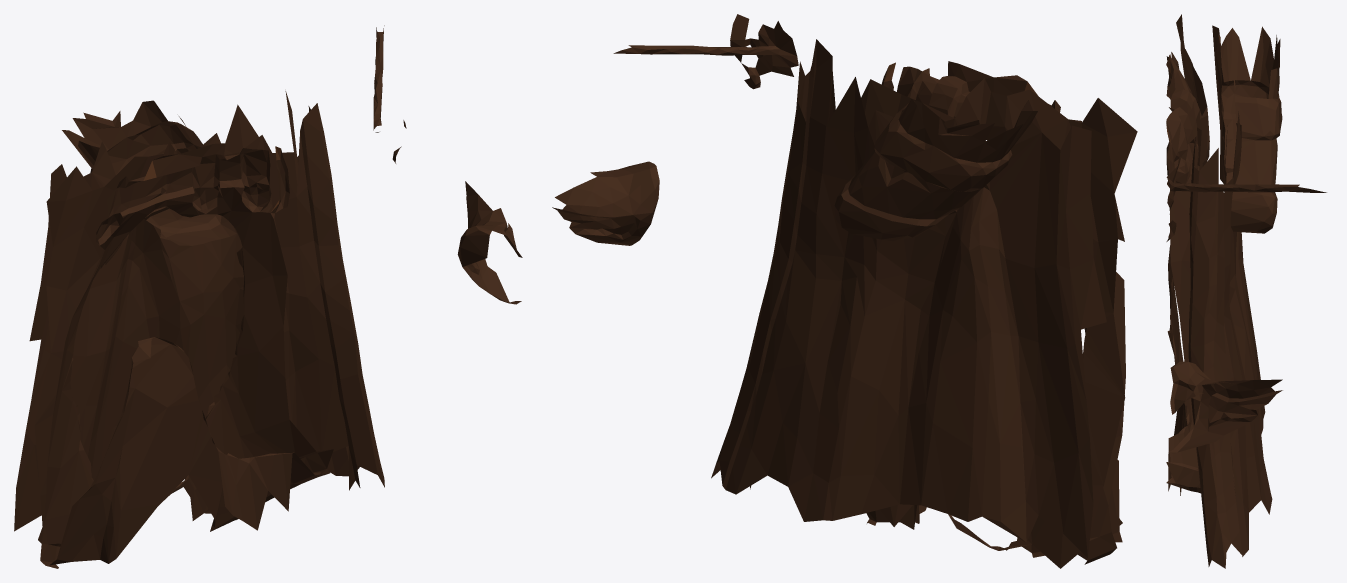
The model's file is bow.obj.
3 renders of one model, left to right at view 1: azimuth 30°, elevation 25°; view 2: azimuth 150°, elevation 25°; view 3: azimuth 270°, elevation 25°, orthographic. The views are drawn at different scales.
Parts seen in each view (by area): view 1: Bow; view 2: Bow; view 3: Bow.
Part boxes in pixels (box(x1,y1,x2,y2)): Bow: box(14, 25, 522, 568); Bow: box(552, 14, 1137, 568); Bow: box(1166, 14, 1326, 568).
Size of the model in its own units: 0.6693 by 0.5587 by 0.2081.
